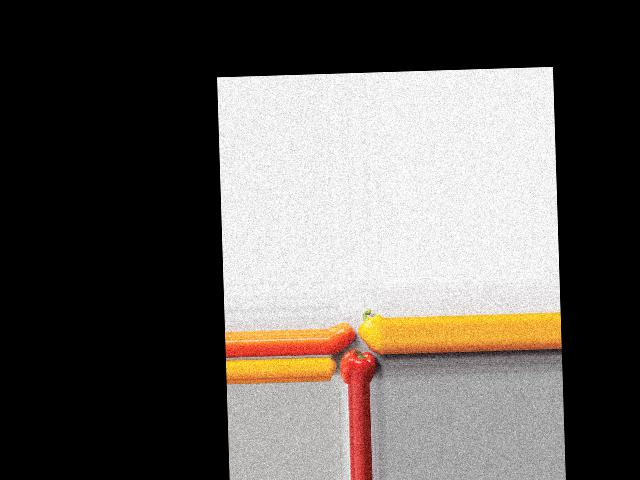bell_pepper: (339, 348, 378, 384)
